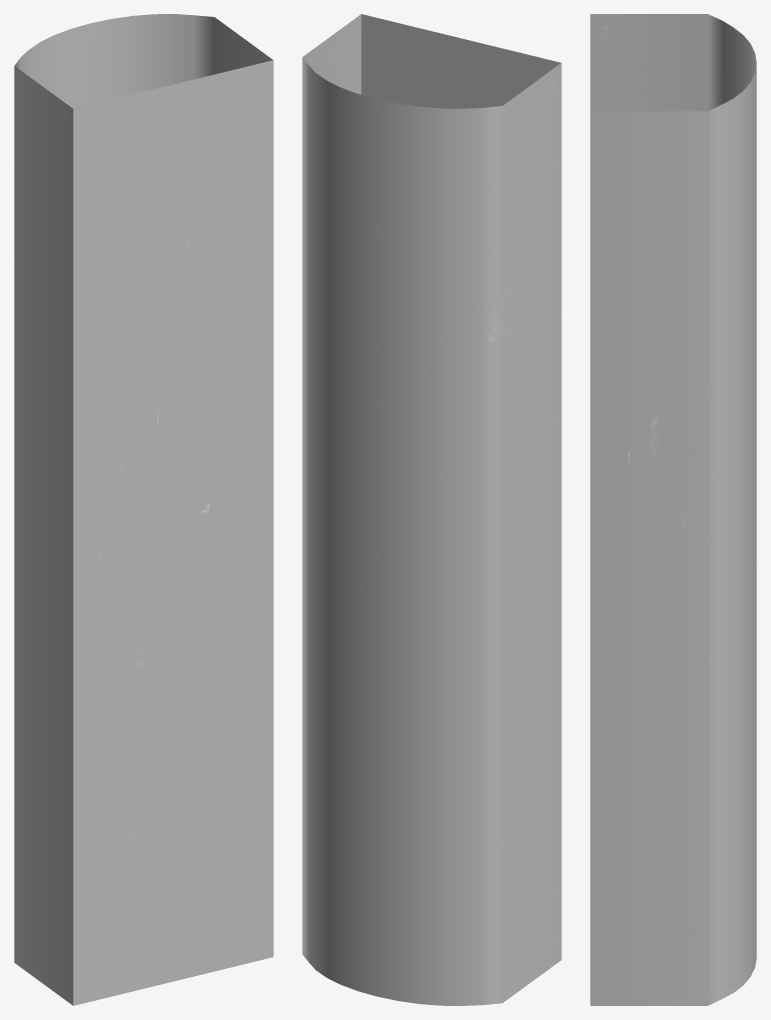
Rendered from SM_BuildingFacade_Window_Culmn02.fbx.
3 renders of one model, left to right at view 1: azimuth 30°, elevation 25°; view 2: azimuth 150°, elevation 25°; view 3: azimuth 270°, elevation 25°, orthographic.
Visible parts, largest first — view 1: SM_BuildingFacade_Window_Culmn02; view 2: SM_BuildingFacade_Window_Culmn02; view 3: SM_BuildingFacade_Window_Culmn02.
Part boxes in pixels (<box>): SM_BuildingFacade_Window_Culmn02: <box>14,14,273,1005</box>; SM_BuildingFacade_Window_Culmn02: <box>302,14,561,1005</box>; SM_BuildingFacade_Window_Culmn02: <box>590,14,756,1005</box>.
Bounding box in the file's own units: 93.37 × 400 × 67.47.
